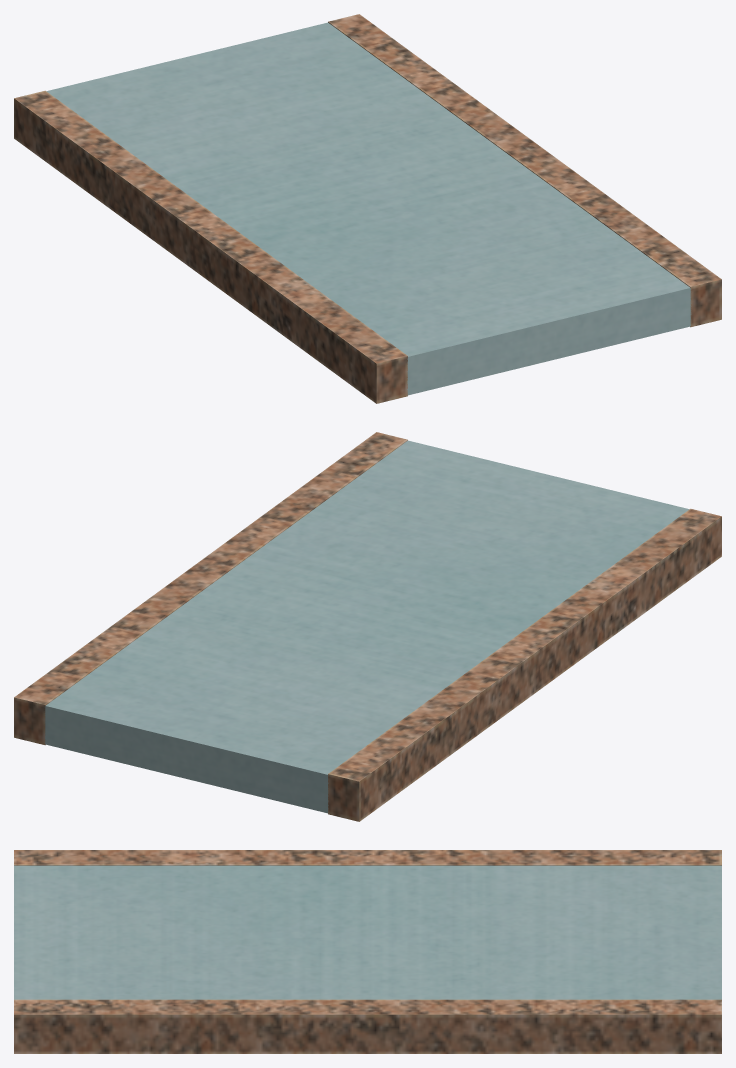
Rendered from set_base_b_02.fbx.
3 renders of one model, top to bottom at view 1: azimuth 30°, elevation 25°; view 2: azimuth 150°, elevation 25°; view 3: azimuth 270°, elevation 25°, orthographic. The views are drawn at different scales.
Visible parts, largest first — view 1: set_base_b_02; view 2: set_base_b_02; view 3: set_base_b_02.
Part boxes in pixels (bbox=[...]): set_base_b_02: bbox=[14, 14, 721, 403]; set_base_b_02: bbox=[14, 432, 721, 821]; set_base_b_02: bbox=[14, 850, 721, 1053].
Bounding box in the file's own units: 110 × 12.25 × 200.
